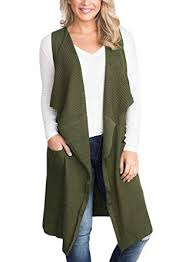C_cardigan sweater: (30, 27, 156, 249)
